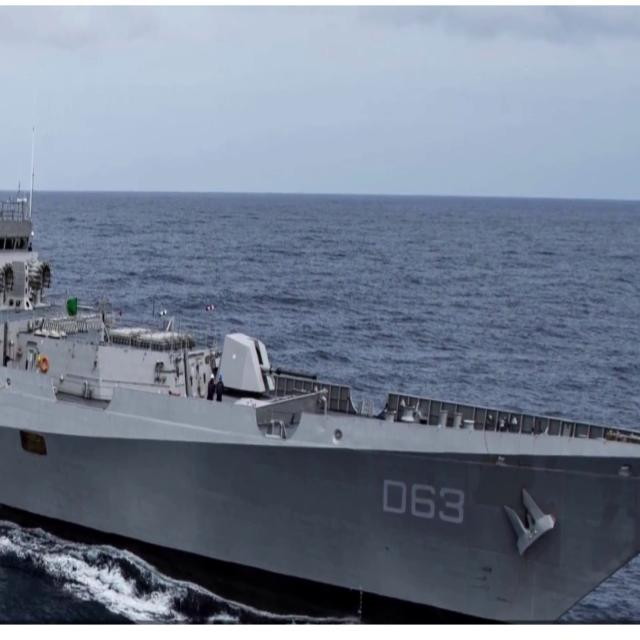OCR: (380, 475, 468, 531)
